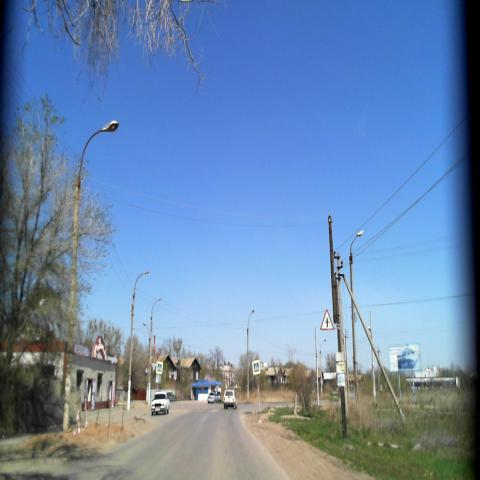2_3: (320, 308, 333, 330)
